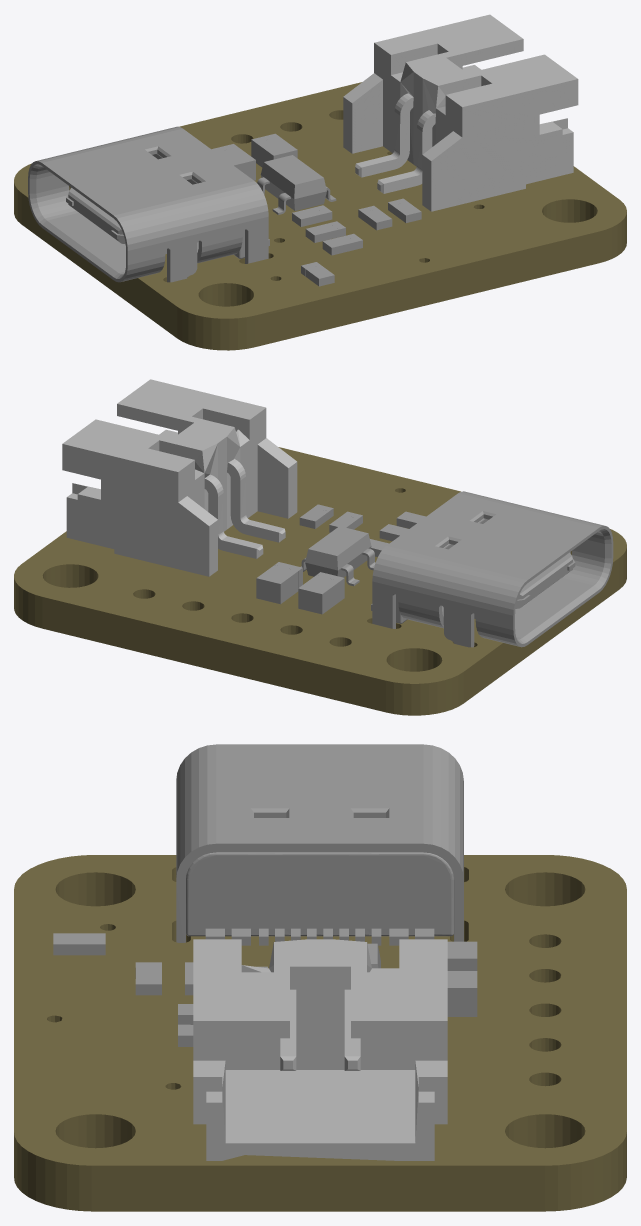
File: adafruit-4410-microlipo-usbc.glb
3 renders of one model, top to bottom at view 1: azimuth 30°, elevation 25°; view 2: azimuth 150°, elevation 25°; view 3: azimuth 270°, elevation 25°, orthographic. The views are drawn at different scales.
Parts seen in each view (by area): view 1: colour 1, colour 2, colour 3; view 2: colour 1, colour 2, colour 3; view 3: colour 1, colour 2, colour 3.
Part boxes in pixels (<box>): colour 1: <box>14,82,626,350</box>; colour 2: <box>28,126,421,286</box>; colour 3: <box>343,14,578,211</box>; colour 1: <box>14,447,626,715</box>; colour 2: <box>256,491,613,647</box>; colour 3: <box>62,379,297,576</box>; colour 1: <box>14,855,626,1211</box>; colour 2: <box>53,744,477,1046</box>; colour 3: <box>193,939,447,1160</box>.
Size of the model in its own units: 0.024 by 0.00637 by 0.019.
